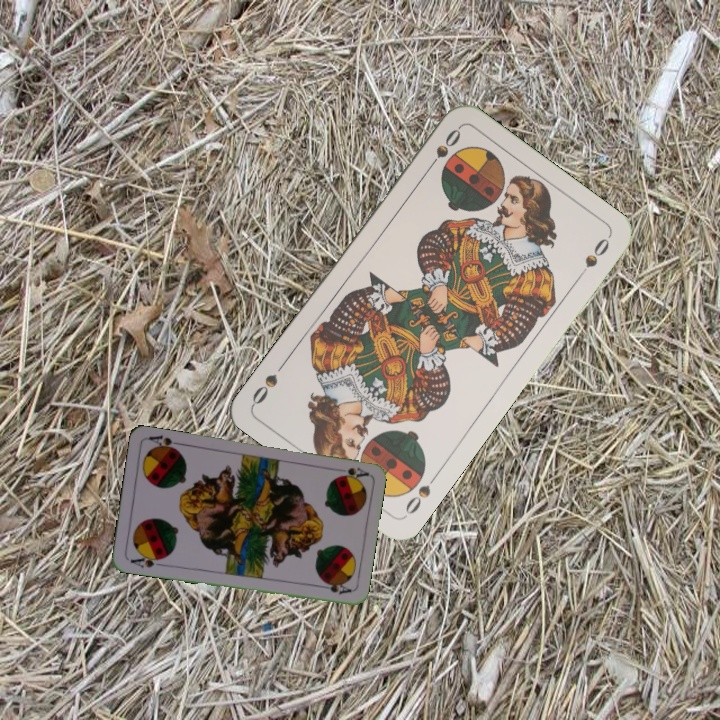SA: (126, 550, 167, 570), (334, 463, 371, 482)
SO: (422, 124, 464, 175), (401, 468, 442, 518)
